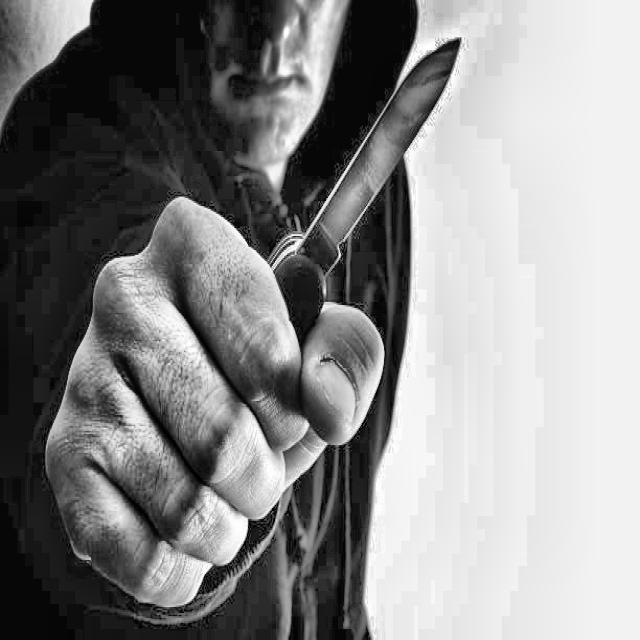pisau: (214, 27, 470, 447)
robbery: (0, 0, 478, 638)
